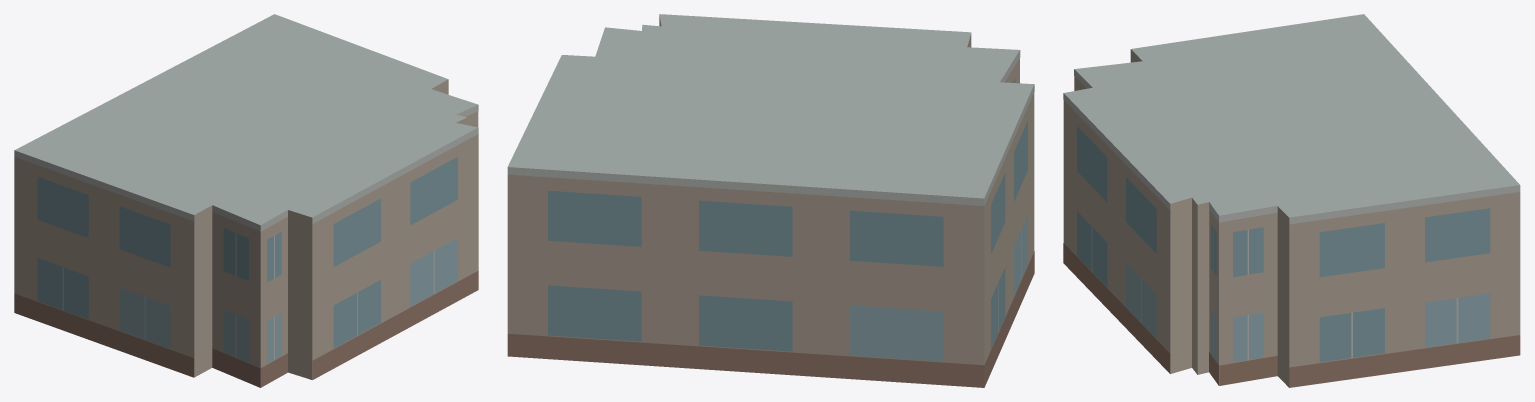
The model's file is survey-upis-32879561.glb.
The picture shows the model from 3 angles, left to right: view 1: azimuth 30°, elevation 25°; view 2: azimuth 150°, elevation 25°; view 3: azimuth 270°, elevation 25°; orthographic projection. The views are drawn at different scales.
Parts seen in each view (by area): view 1: survey-upis-32879561.tmp; view 2: survey-upis-32879561.tmp; view 3: survey-upis-32879561.tmp.
Boxes of the visible parts, bbox=[...] form: survey-upis-32879561.tmp: bbox=[14, 14, 478, 387]; survey-upis-32879561.tmp: bbox=[507, 14, 1034, 387]; survey-upis-32879561.tmp: bbox=[1063, 14, 1520, 387].
Bounding box in the file's own units: 15.66 × 6.1 × 14.84.
